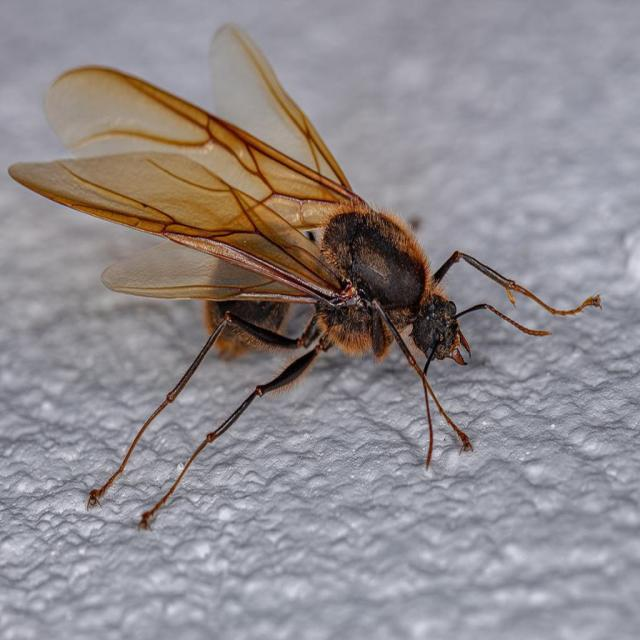Alive-Male-Alate: (8, 21, 605, 534)
